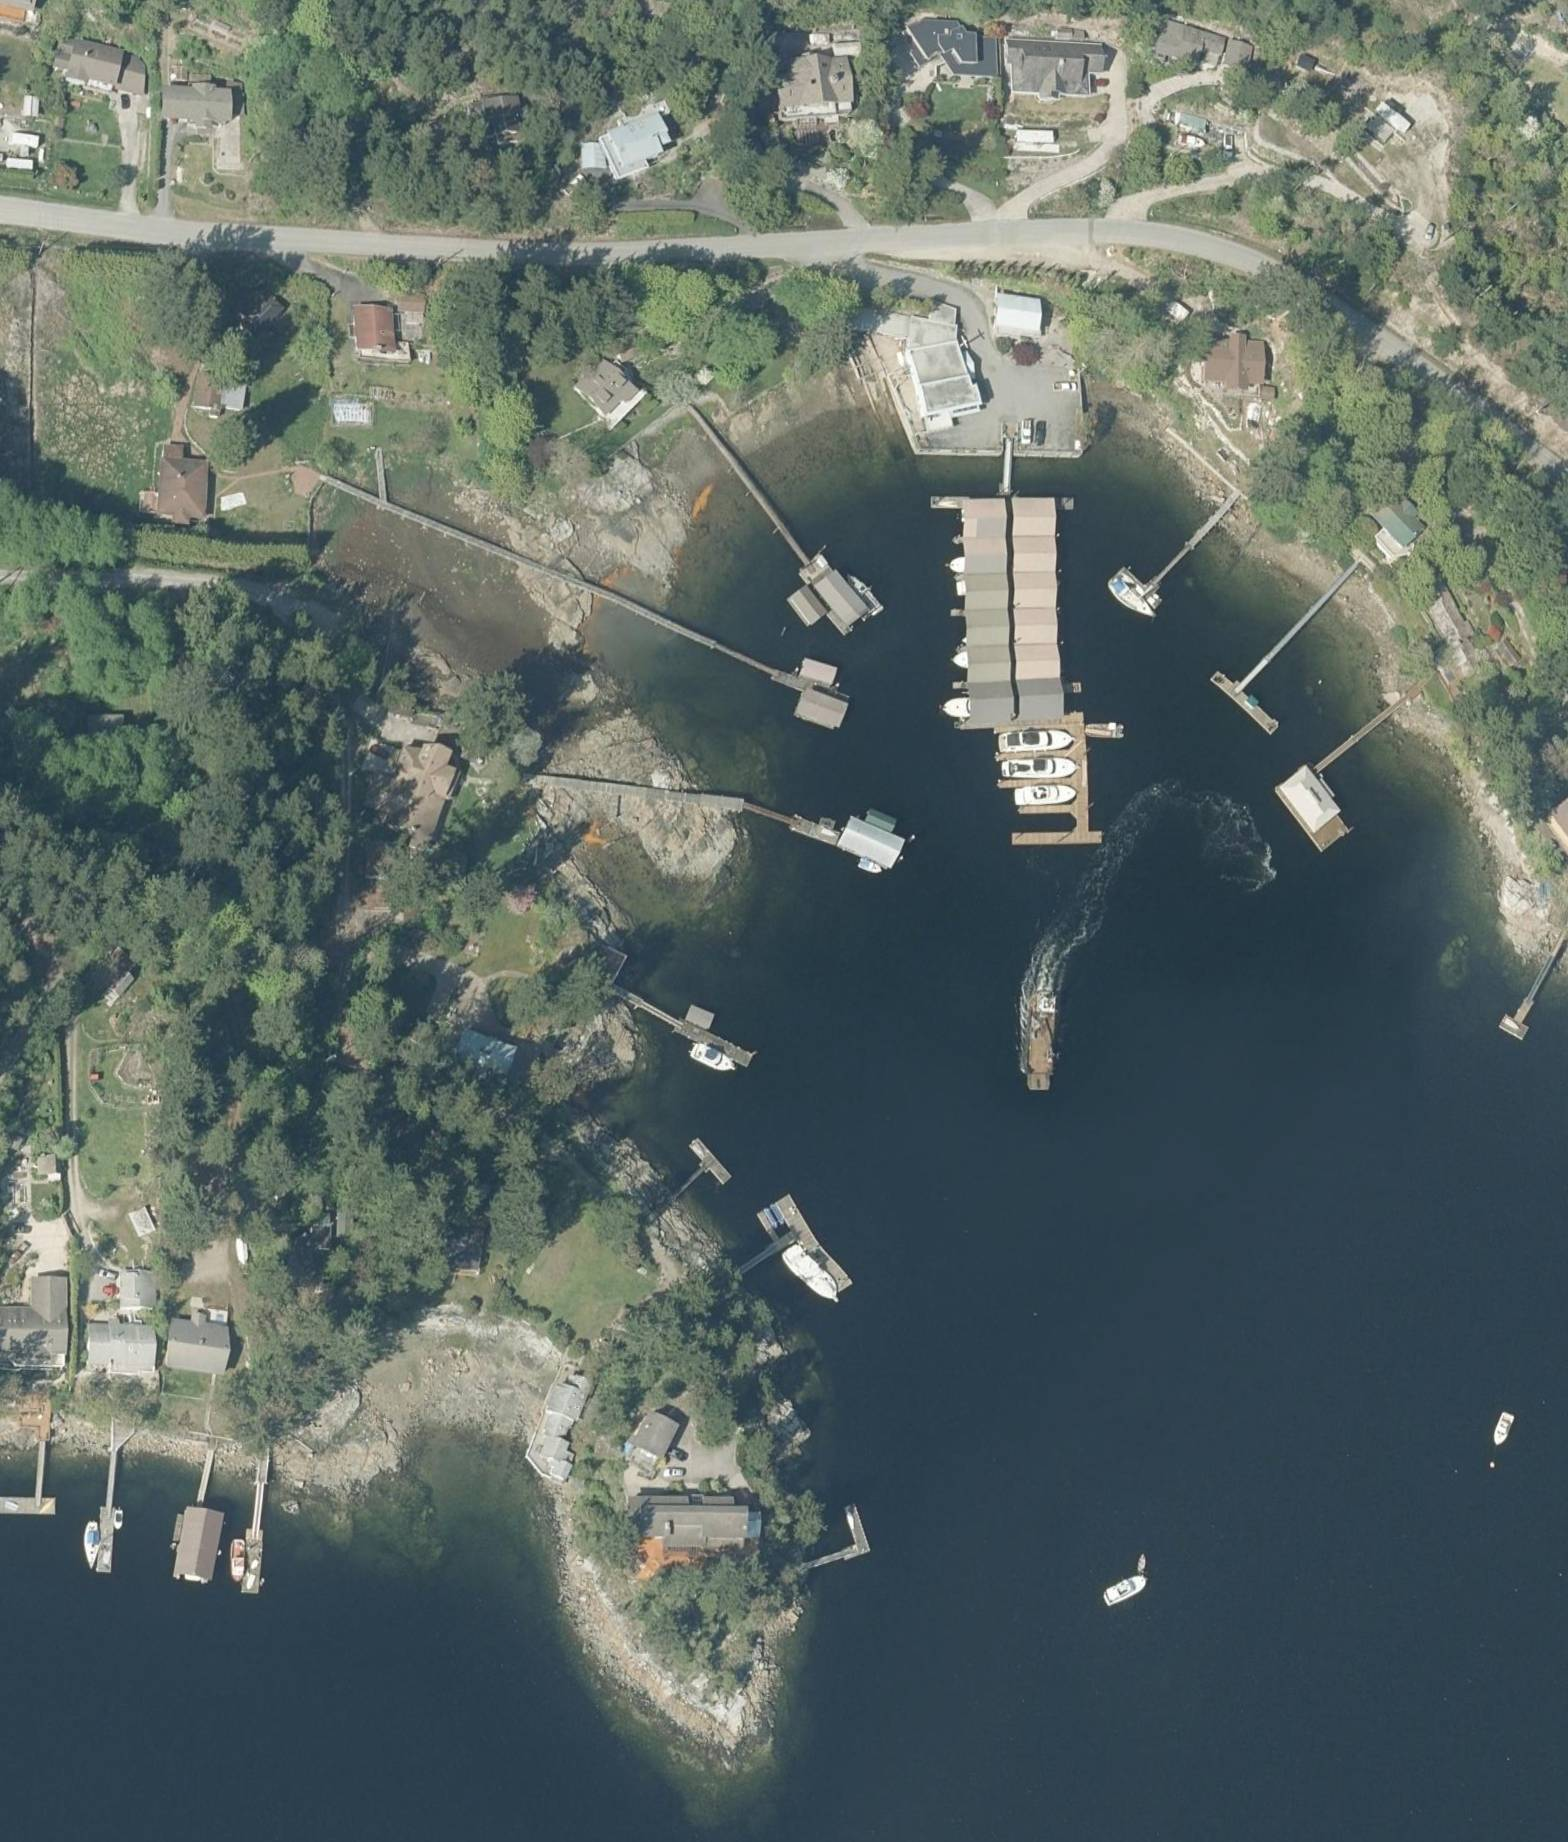harbor: (949, 506, 1101, 846), (582, 565, 860, 734), (683, 415, 871, 650), (1210, 554, 1388, 736), (1272, 702, 1437, 856), (1115, 471, 1254, 610), (717, 1193, 856, 1325), (745, 765, 912, 873), (618, 972, 765, 1070), (171, 1458, 233, 1587), (1496, 944, 1566, 1042), (789, 1501, 873, 1574), (656, 1136, 733, 1212), (2, 1427, 61, 1515), (241, 1469, 271, 1595), (96, 1453, 121, 1573)
